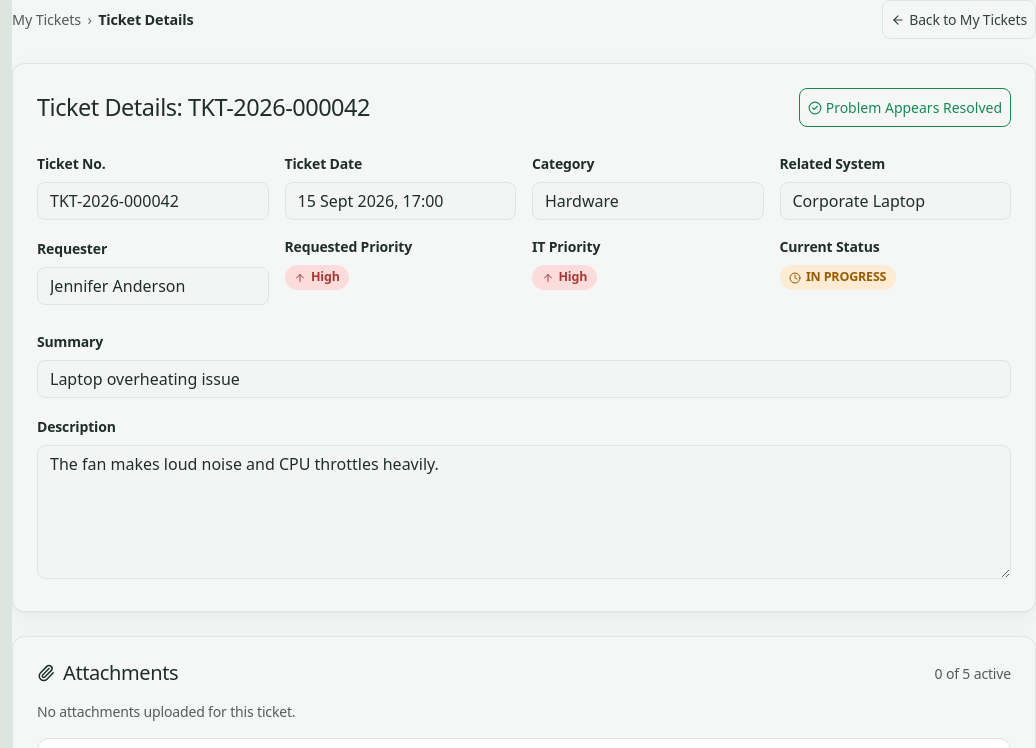
Scenario: TicketDetail Public Comments & Resolution Indicator (Issue #32) › allows requester to indicate problem resolved and displays the resolved badge
The width and height of the screenshot is (1036, 748).
Expected: the heading "Ticket Details: TKT-2026-000042" is shown, [37,93,370,122]
Click Problem Appears Resolved button
Click the button "Problem Appears Resolved": (905, 108) [799,88,1011,127]
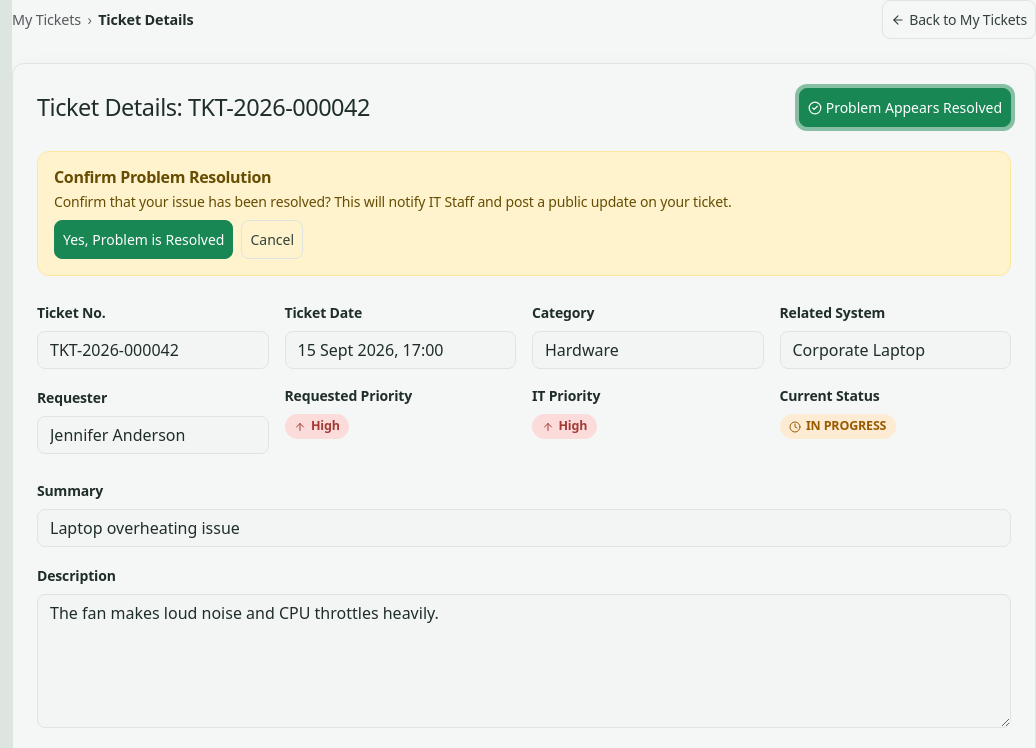
Expected: the heading "Confirm Problem Resolution" is shown, [54,166,271,188]
Click the button "Yes, Problem is Resolved": (144, 240) [54,220,234,259]
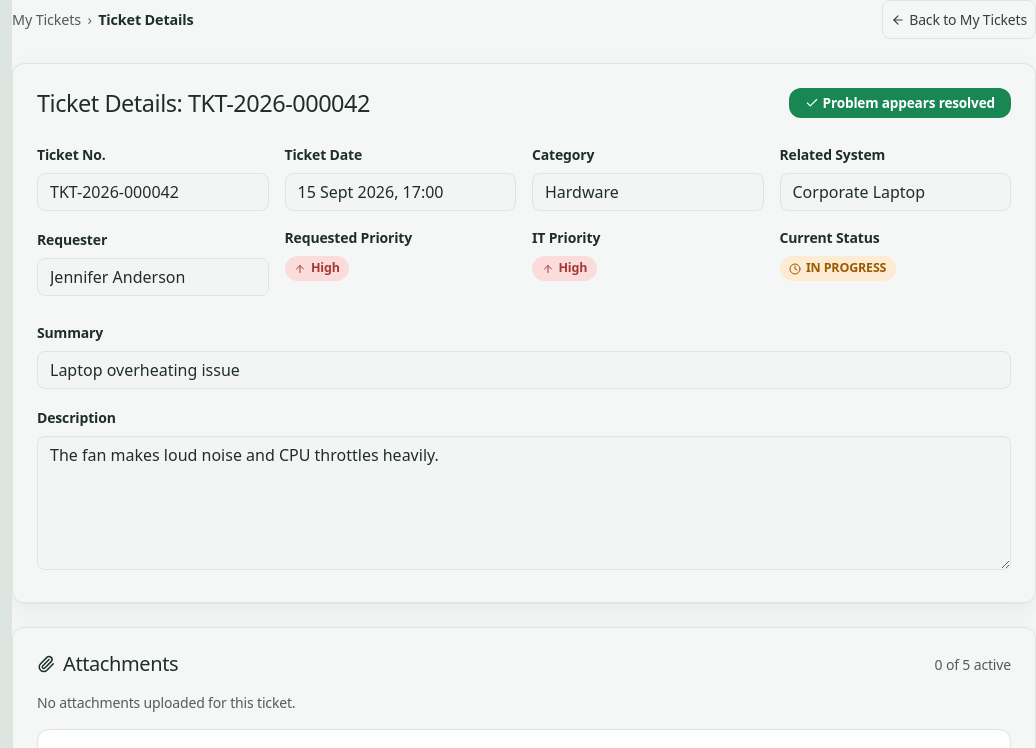
Expected: the text "Problem appears resolved" is shown, [789,88,1011,118]
